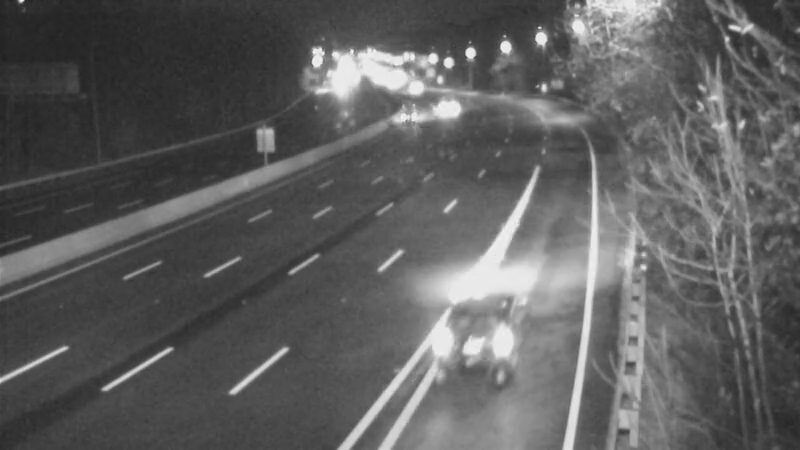vehicle: (431, 283, 541, 393), (415, 85, 465, 135), (388, 87, 438, 137)
